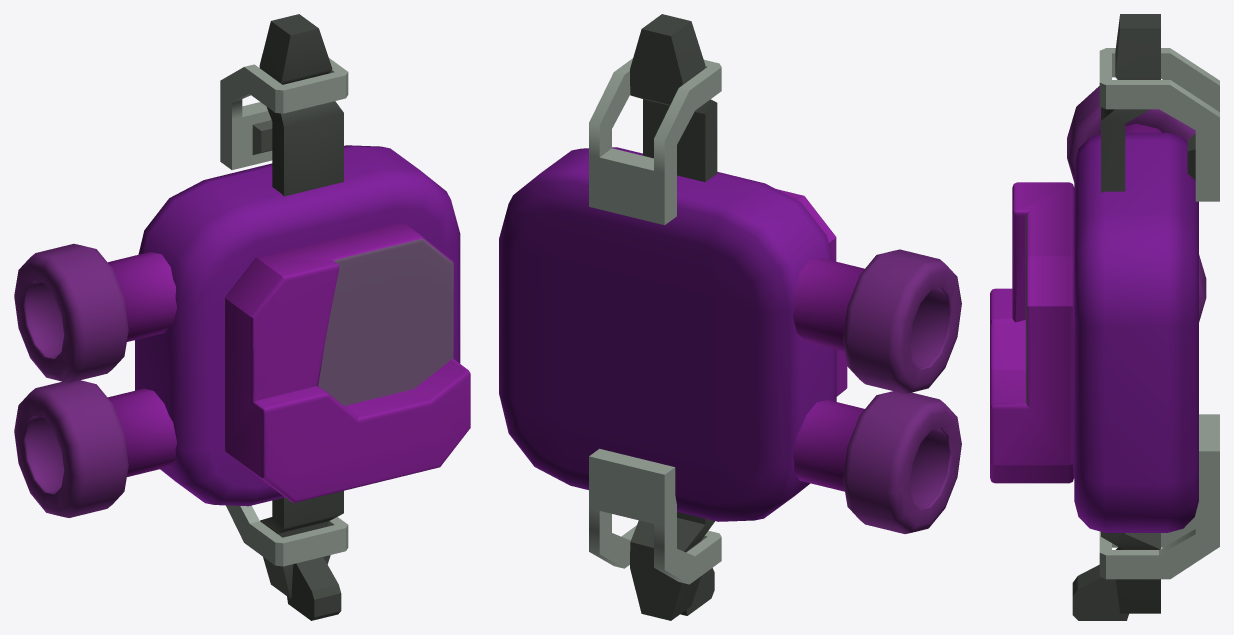
File: Procesor_Cooling_lvl_09_V02.fbx
3 renders of one model, left to right at view 1: azimuth 30°, elevation 25°; view 2: azimuth 150°, elevation 25°; view 3: azimuth 270°, elevation 25°, orthographic. The views are drawn at different scales.
Visible parts, largest first — view 1: Procesor_Cooling_lvl_09; view 2: Procesor_Cooling_lvl_09; view 3: Procesor_Cooling_lvl_09.
Part boxes in pixels (x1,y1,x2,y2): Procesor_Cooling_lvl_09: [14, 14, 470, 620]; Procesor_Cooling_lvl_09: [499, 14, 961, 620]; Procesor_Cooling_lvl_09: [990, 14, 1219, 620].
Bounding box in the file's own units: 32.81 × 45.04 × 15.83.
